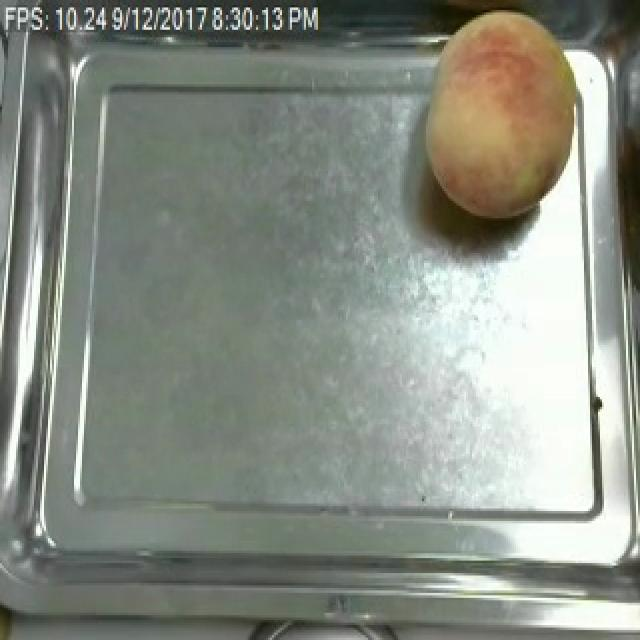Fruit: (416, 2, 592, 226)
